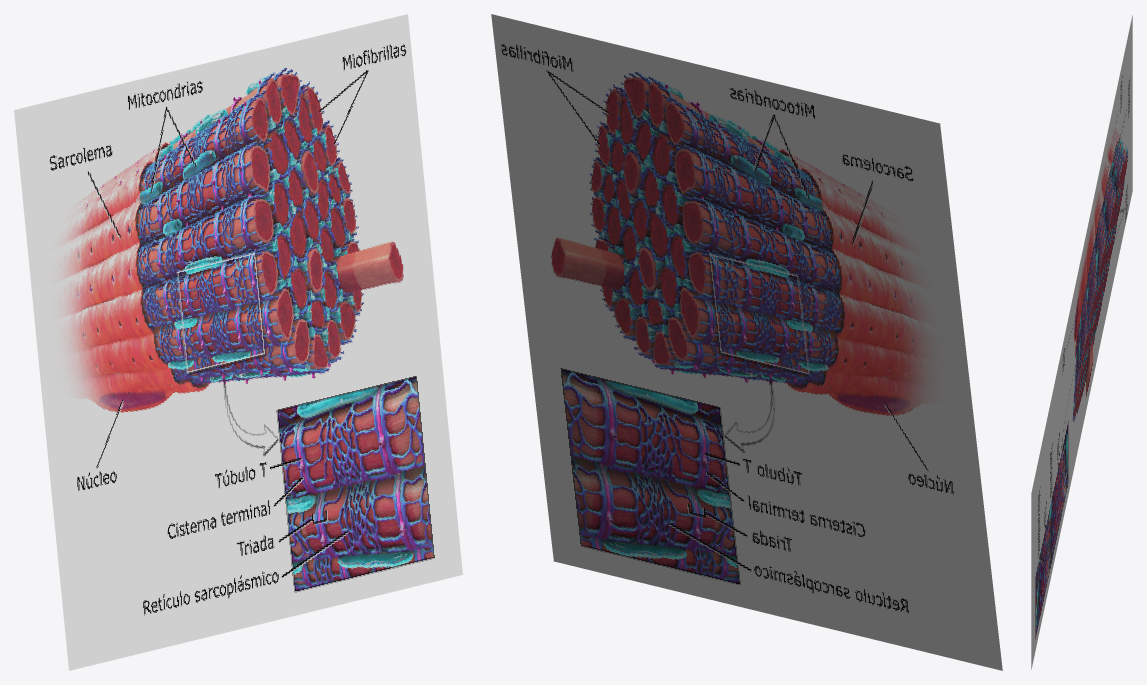
File: tej.glb
The picture shows the model from 3 angles, left to right: view 1: azimuth 30°, elevation 25°; view 2: azimuth 150°, elevation 25°; view 3: azimuth 270°, elevation 25°; orthographic projection. The views are drawn at different scales.
Parts seen in each view (by area): view 1: mesh_id30; view 2: mesh_id30; view 3: mesh_id30.
Part boxes in pixels (left/top/right/bottom): mesh_id30: left=14, top=14, right=462, bottom=670; mesh_id30: left=491, top=14, right=1002, bottom=670; mesh_id30: left=1031, top=15, right=1132, bottom=669.
Size of the model in its own units: 0.35 by 0.442 by 0.0846.
1 material, 1 textured.
